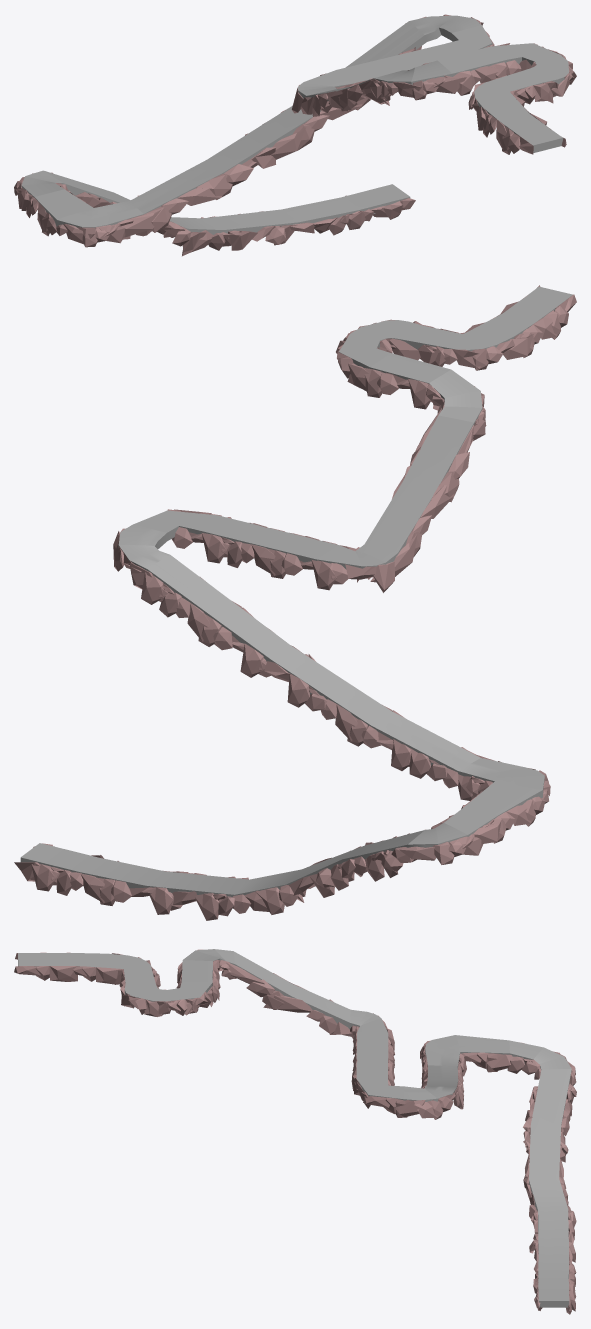
Rendered from level1.fbx.
3 views of the same model, one above another, from view 1: azimuth 30°, elevation 25°; view 2: azimuth 150°, elevation 25°; view 3: azimuth 270°, elevation 25° (orthographic). The views are drawn at different scales.
Visible parts, largest first — view 1: polySurface89; view 2: polySurface89; view 3: polySurface89.
Part boxes in pixels (x1,y1,x2,y2): polySurface89: (14, 14, 576, 256); polySurface89: (14, 285, 576, 920); polySurface89: (14, 949, 576, 1314).
Size of the model in its own units: 1369 by 1072 by 1871.
